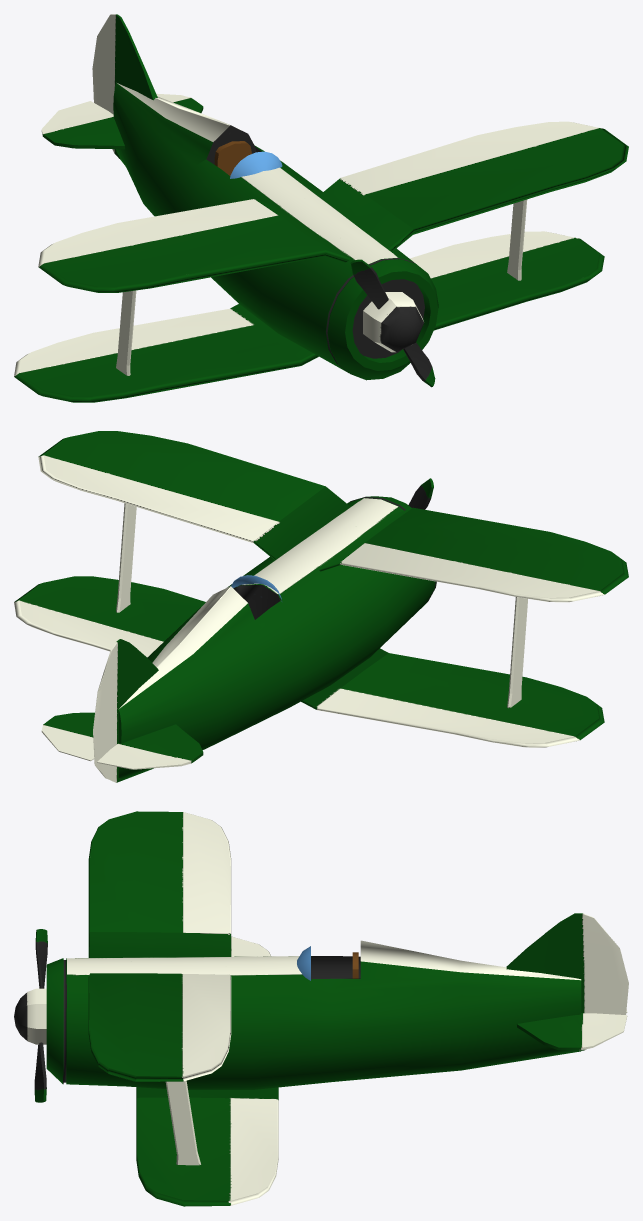
3 views of the same model, one above another, from view 1: azimuth 30°, elevation 25°; view 2: azimuth 150°, elevation 25°; view 3: azimuth 270°, elevation 25° (orthographic). The views are drawn at different scales.
Parts seen in each view (by area): view 1: Plane_2, Propeller; view 2: Plane_2, Propeller; view 3: Plane_2, Propeller.
Part boxes in pixels (x1=…): Plane_2: x1=14, y1=14, x2=628, y2=402; Propeller: x1=350, y1=259, x2=435, y2=387; Plane_2: x1=14, y1=431, x2=628, y2=782; Propeller: x1=408, y1=478, x2=433, y2=509; Plane_2: x1=46, y1=811, x2=628, y2=1206; Propeller: x1=14, y1=929, x2=47, y2=1102.
Bounding box in the file's own units: 489 × 146 × 472.
